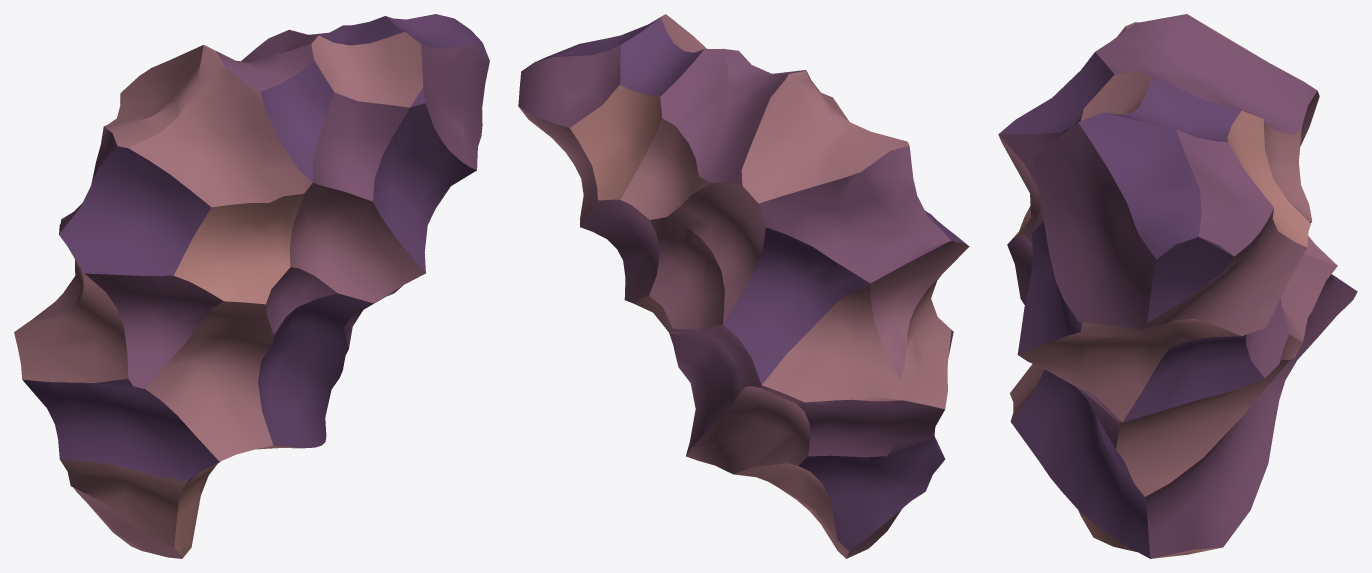
Rendered from rock3.fbx.
3 renders of one model, left to right at view 1: azimuth 30°, elevation 25°; view 2: azimuth 150°, elevation 25°; view 3: azimuth 270°, elevation 25°, orthographic. The views are drawn at different scales.
Visible parts, largest first — view 1: Cube.001; view 2: Cube.001; view 3: Cube.001.
Part boxes in pixels (left/top/right/bottom): Cube.001: left=14, top=14, right=489, bottom=558; Cube.001: left=518, top=14, right=969, bottom=558; Cube.001: left=998, top=14, right=1357, bottom=558.
Bounding box in the file's own units: 608 × 623 × 356.
